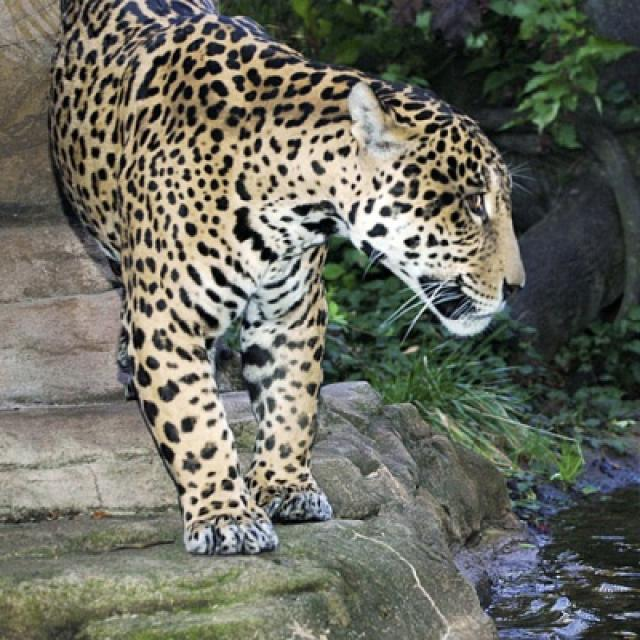Jaguar: (45, 0, 526, 560)
